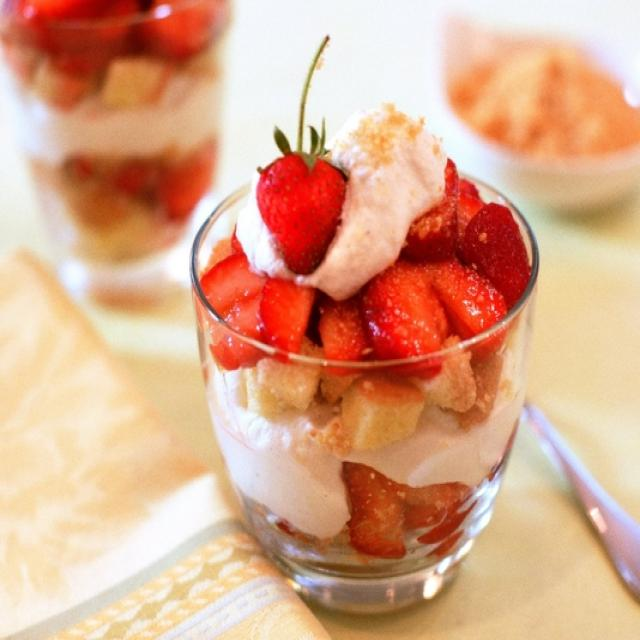蛋糕甜品: (142, 74, 570, 621)
